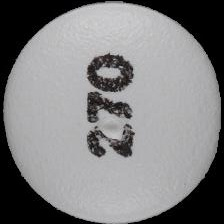68084-480: (0, 0, 224, 224)
